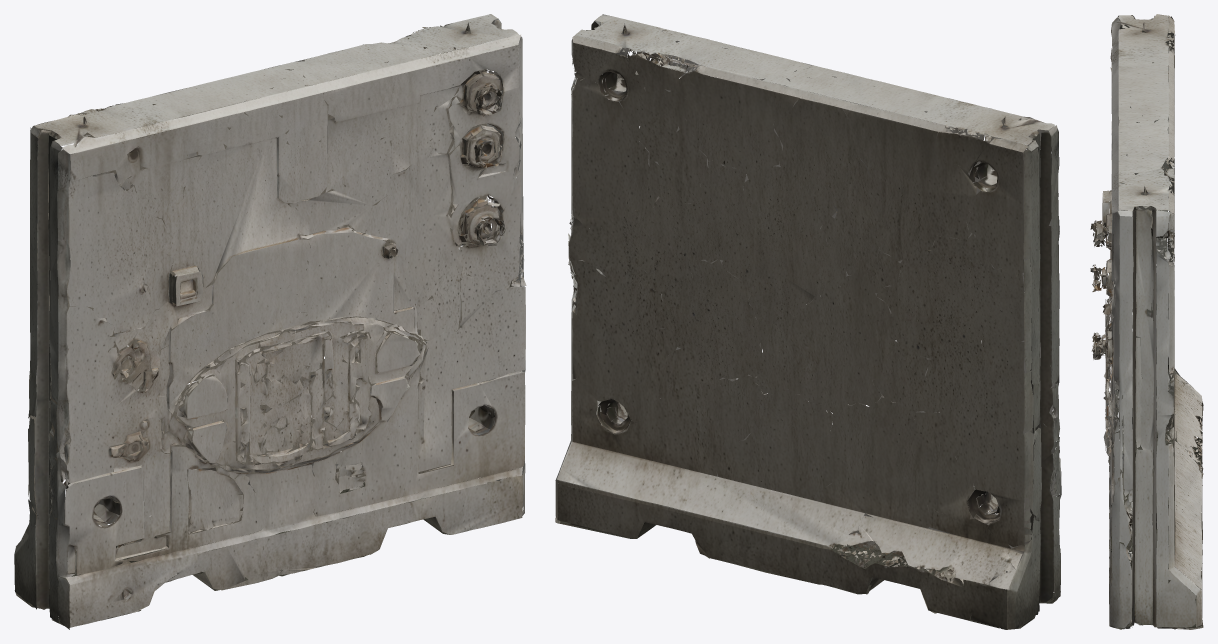
The model's file is Env_ConcreteWall_4m.fbx.
3 renders of one model, left to right at view 1: azimuth 30°, elevation 25°; view 2: azimuth 150°, elevation 25°; view 3: azimuth 270°, elevation 25°, orthographic. The views are drawn at different scales.
Parts seen in each view (by area): view 1: texture_mapping; view 2: texture_mapping; view 3: texture_mapping.
Boxes of the visible parts, x1,y1,x2,y2 form: texture_mapping: (14, 14, 526, 629); texture_mapping: (555, 14, 1061, 629); texture_mapping: (1090, 14, 1203, 629).
Bounding box in the file's own units: 1 × 0.9942 × 0.2378.
